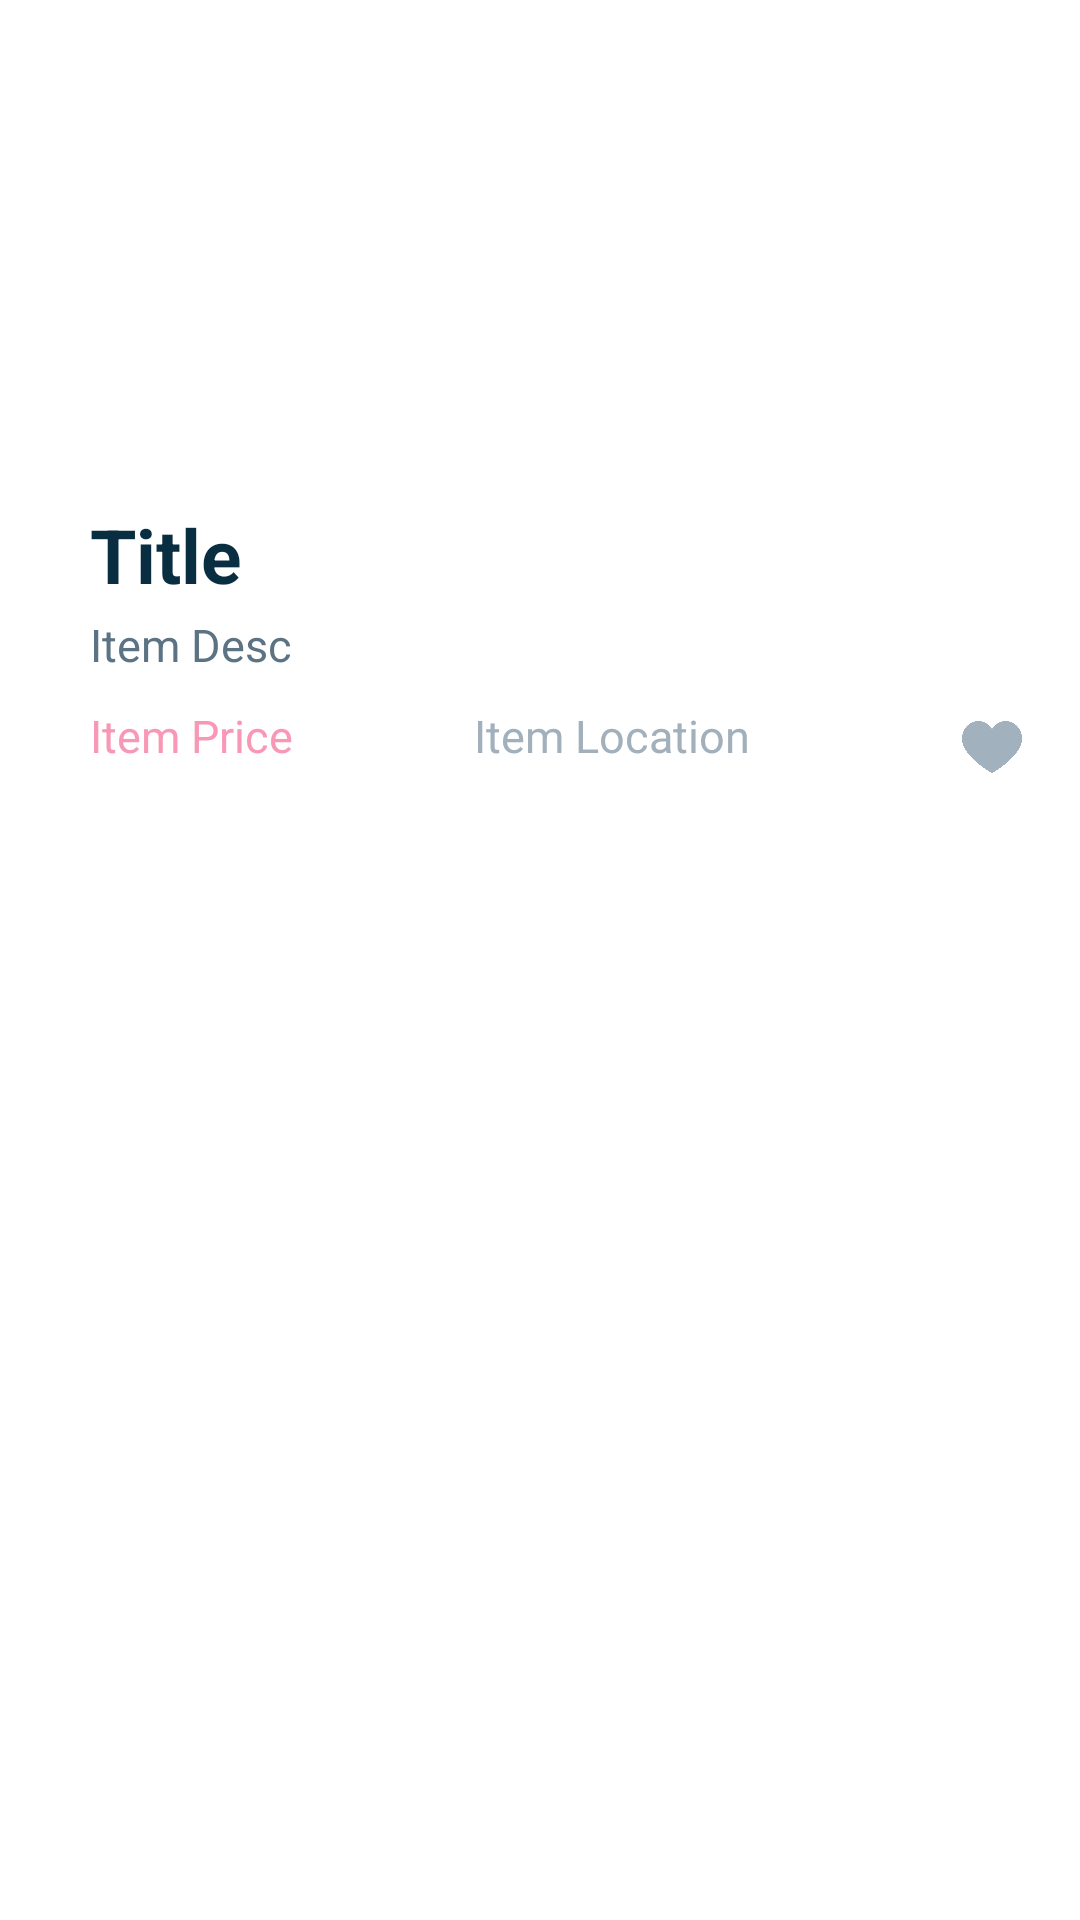

Where icons sit on this 1080×1920 app screen, as detection(x1, y1, x2, y2):
heart card: detection(962, 721, 1022, 773)
